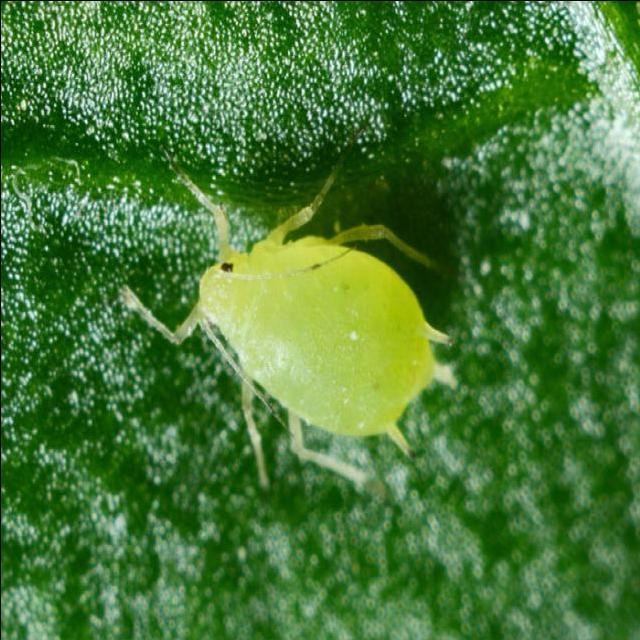aphid: (112, 161, 474, 471)
